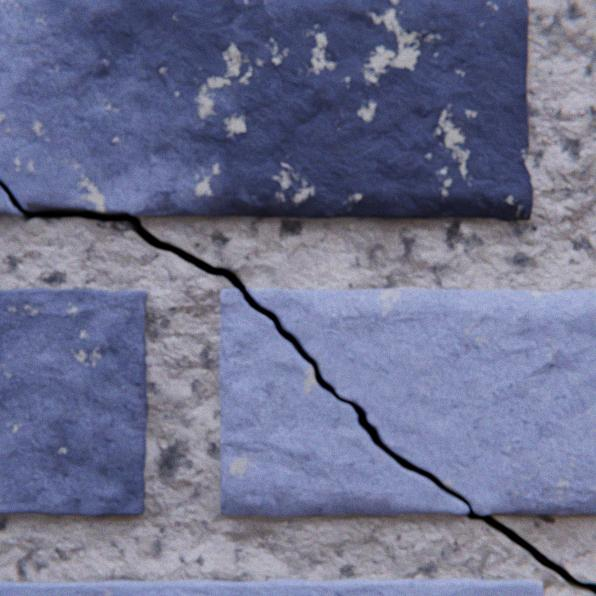brick: (0, 288, 148, 515), (0, 577, 541, 595)
broken_brick: (0, 0, 531, 221), (247, 289, 595, 513), (220, 289, 467, 514), (0, 186, 21, 216)
crack: (0, 181, 595, 594)
